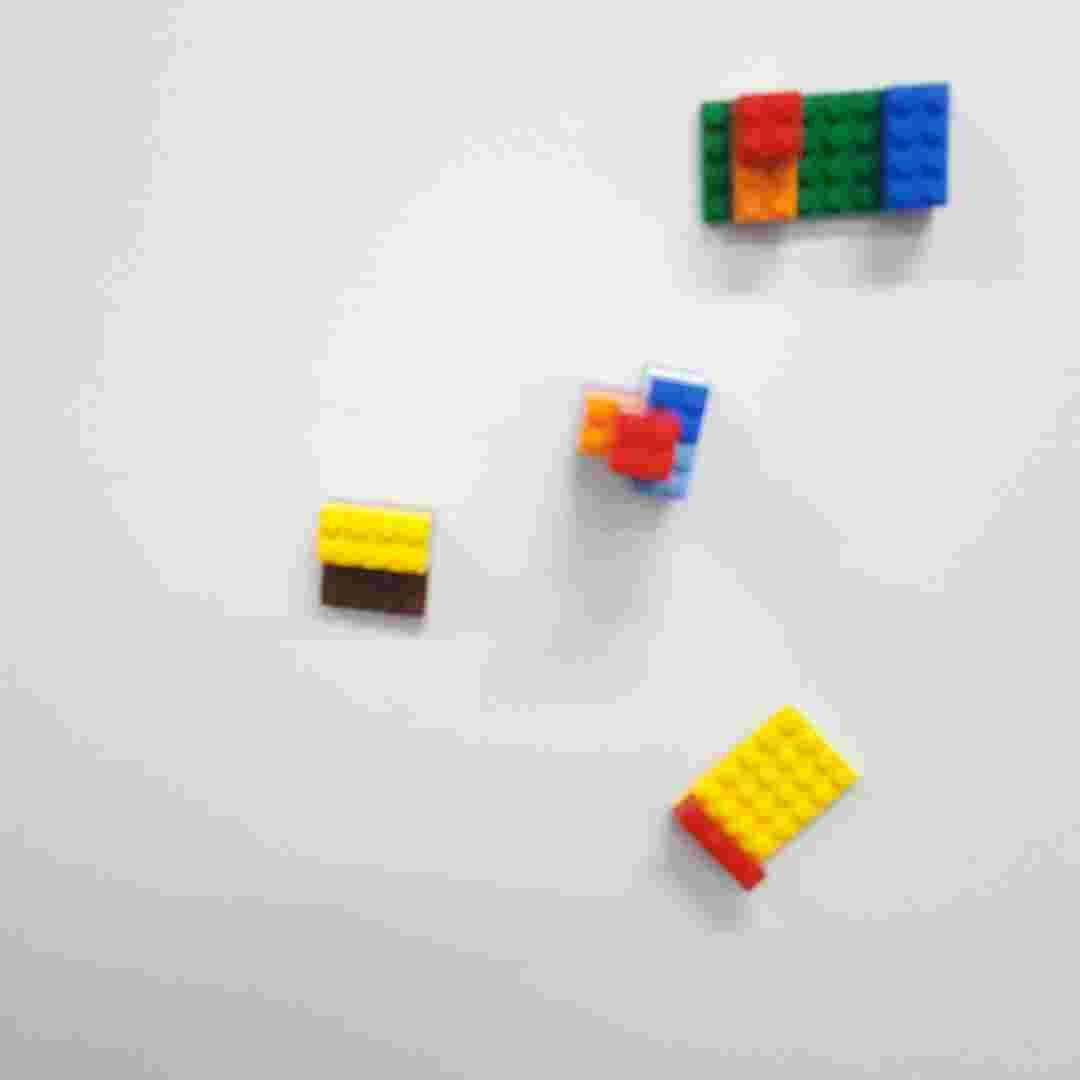LEGO: (690, 76, 957, 247), (664, 699, 867, 896), (567, 366, 714, 512), (303, 497, 441, 621)
